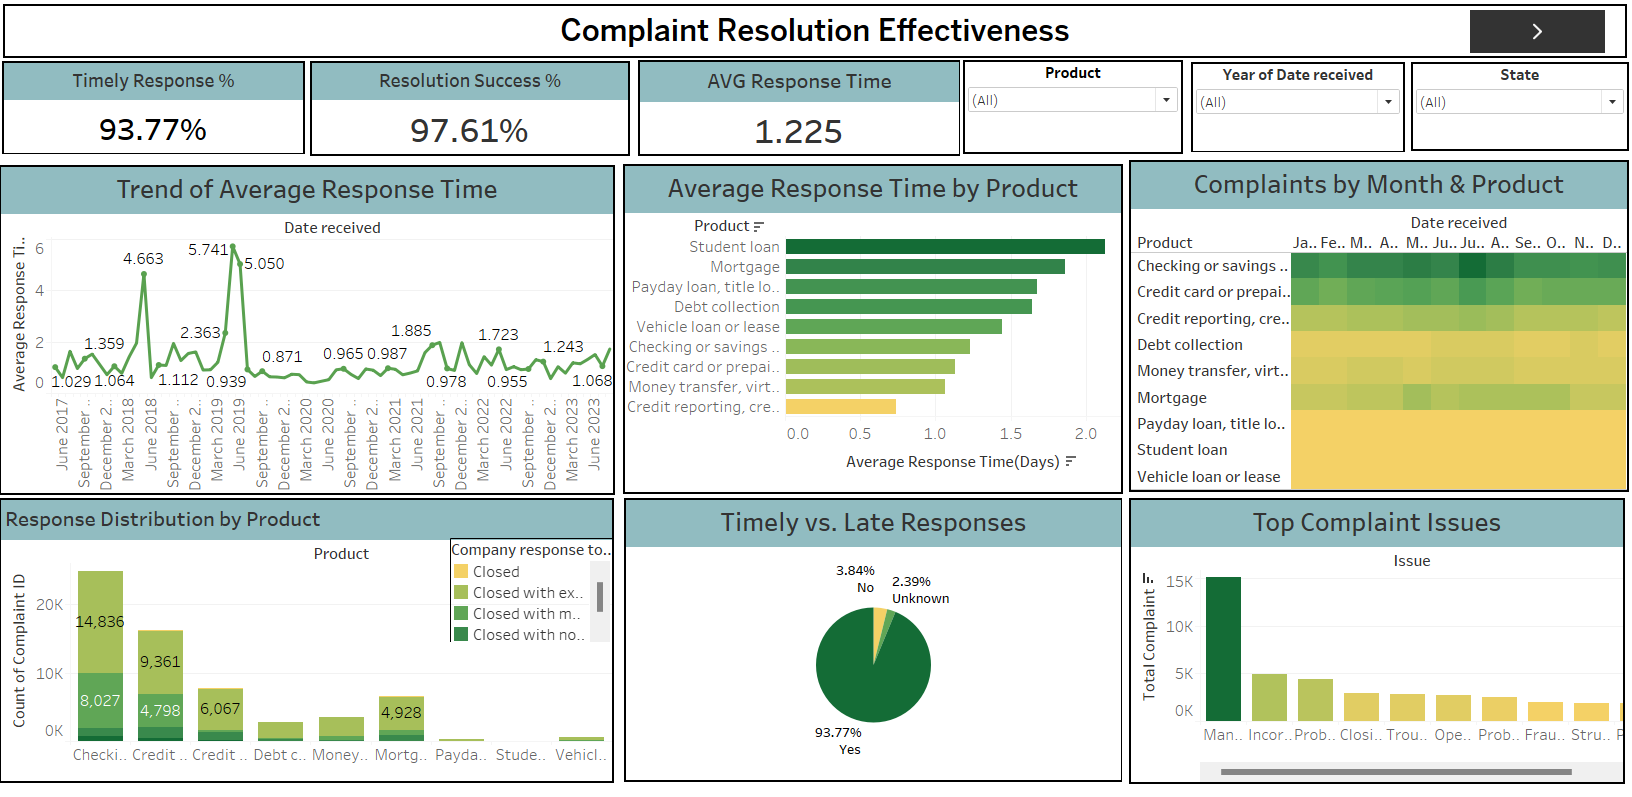

This screenshot's page, from the dashboard's own definition file:
{"tool":"tableau","page":{"name":"Complaint Resolution Effectiveness","canvas":[1650,850],"ordinal":0},"visuals":[{"type":"text","box":[9.2,1.9,1624.3,53.8]},{"type":"dashboard-object","box":[1461,8,164,43]},{"type":"worksheet","title":"AVG Response Time","mark":"Automatic","box":[643.5,57.6,322.7,96.3]},{"type":"filter","title":"Complaints by Month & Product","param":"[federated.1016b2r1jjwff414c6sd409xoqu5].[none:Product:nk]","box":[968.9,57.6,220,94.4]},{"type":"worksheet","title":"Timely Response %","mark":"Automatic","box":[8.2,58.6,303.4,93.5]},{"type":"worksheet","title":"Resolution Success %","mark":"Automatic","box":[316.3,58.6,319.9,95.4]},{"type":"filter","title":"Complaints by Month & Product","param":"[federated.1016b2r1jjwff414c6sd409xoqu5].[yr:Date received:ok]","box":[1197.2,59.5,213.6,90.7]},{"type":"filter","title":"Complaints by Month & Product","param":"[federated.1016b2r1jjwff414c6sd409xoqu5].[none:State:nk]","box":[1417.2,60.4,218.2,88.8]},{"type":"worksheet","title":"Complaints by Month & Product","mark":"Automatic","rows":["Product"],"cols":["Date received"],"box":[1134.8,157.7,500.5,332.4]},{"type":"worksheet","title":"Average Response Time by Product","mark":"Automatic","rows":["Product"],"cols":["Calculation_904097666967490563"],"box":[628.8,162.4,500.5,329.6]},{"type":"worksheet","title":"Trend of Average Response Time","mark":"Automatic","rows":["Calculation_904097666967490563"],"cols":["Date received"],"box":[5.5,163.4,616,329.6]},{"type":"worksheet","title":"Response Distribution by Product","mark":"Automatic","rows":["Complaint ID"],"cols":["Product"],"box":[5.5,495.8,615.1,285.2]},{"type":"worksheet","title":"Timely vs. Late Responses","mark":"Pie","box":[629.8,495.8,498.7,284.3]},{"type":"worksheet","title":"Top Complaint Issues","mark":"Automatic","rows":["Complaint ID"],"cols":["Issue"],"box":[1134.8,495.8,495.9,286.2]},{"type":"legend","title":"Response Distribution by Product","param":"[federated.1016b2r1jjwff414c6sd409xoqu5].[none:Company response to consumer:nk]","box":[455.6,535.5,163.2,104.8]}]}

Visuals, with their boxes on the page's 1650x850 design canvas (x1, y1, x2, y2). These are canvas units, not pixel positions in the 1632x797 screenshot, which may show the page scaled, cropped or inside an application window:
text: <bbox>9, 2, 1634, 56</bbox>
dashboard-object: <bbox>1461, 8, 1625, 51</bbox>
"AVG Response Time" worksheet: <bbox>644, 58, 966, 154</bbox>
"Complaints by Month & Product" filter: <bbox>969, 58, 1189, 152</bbox>
"Timely Response %" worksheet: <bbox>8, 59, 312, 152</bbox>
"Resolution Success %" worksheet: <bbox>316, 59, 636, 154</bbox>
"Complaints by Month & Product" filter: <bbox>1197, 60, 1411, 150</bbox>
"Complaints by Month & Product" filter: <bbox>1417, 60, 1635, 149</bbox>
"Complaints by Month & Product" worksheet: <bbox>1135, 158, 1635, 490</bbox>
"Average Response Time by Product" worksheet: <bbox>629, 162, 1129, 492</bbox>
"Trend of Average Response Time" worksheet: <bbox>6, 163, 622, 493</bbox>
"Response Distribution by Product" worksheet: <bbox>6, 496, 621, 781</bbox>
"Timely vs. Late Responses" worksheet (Pie marks): <bbox>630, 496, 1128, 780</bbox>
"Top Complaint Issues" worksheet: <bbox>1135, 496, 1631, 782</bbox>
"Response Distribution by Product" legend: <bbox>456, 536, 619, 640</bbox>
